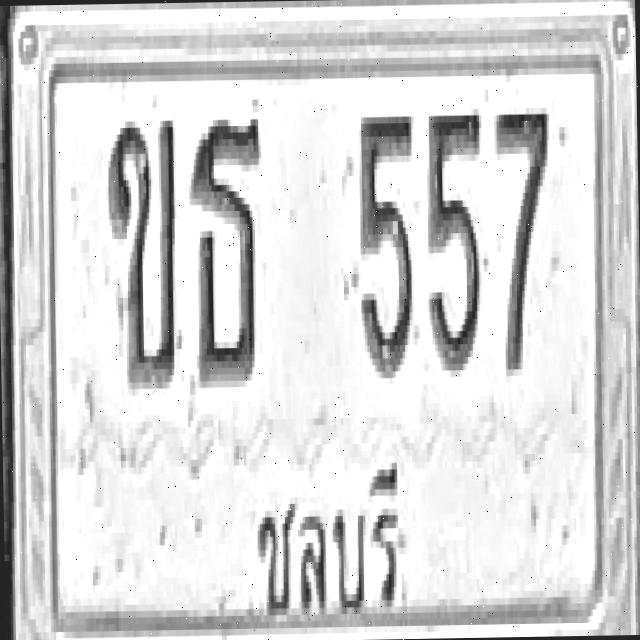11KhorKhai: (105, 113, 178, 389)
33ThorThong: (187, 112, 264, 381)
5: (424, 104, 484, 373), (355, 110, 415, 378)
7: (494, 104, 552, 372)
Chonburi: (241, 442, 416, 640)
